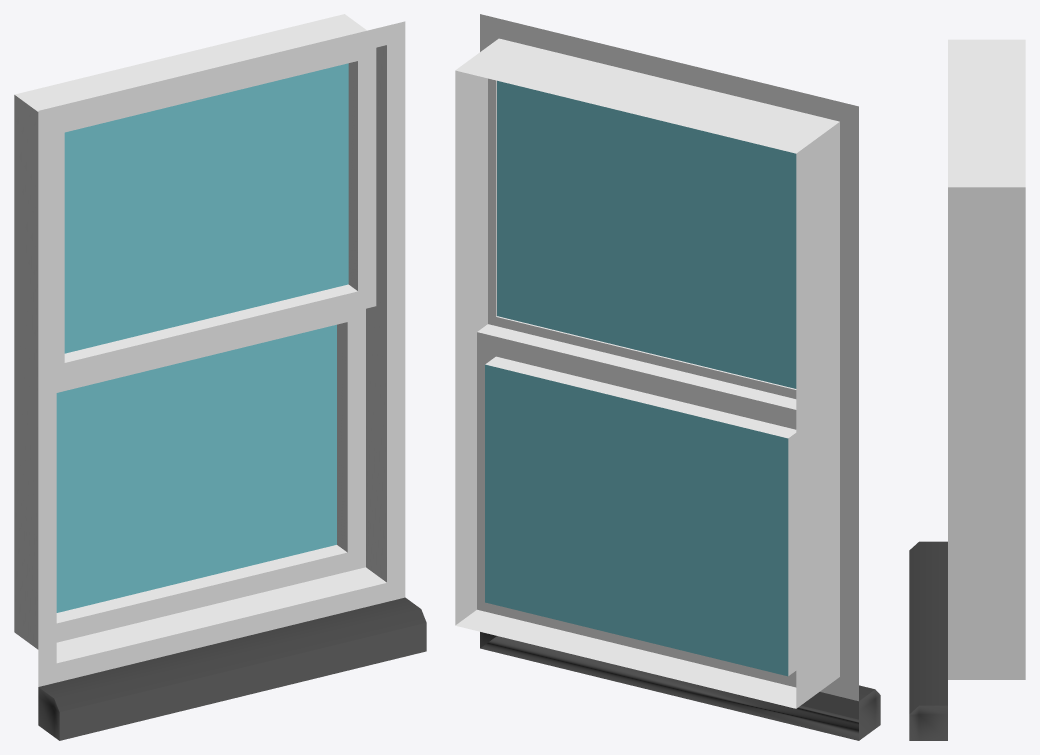
File: Window01OPEN.fbx
3 renders of one model, left to right at view 1: azimuth 30°, elevation 25°; view 2: azimuth 150°, elevation 25°; view 3: azimuth 270°, elevation 25°, orthographic. The views are drawn at different scales.
Parts seen in each view (by area): view 1: Window01, Plane.001, Window01.001; view 2: Window01, Plane.001, Window01.001; view 3: Window01, Window01.001.
Boxes of the visible parts, left/top/right/bottom form: Window01: left=14, top=14, right=405, bottom=686; Plane.001: left=56, top=309, right=365, bottom=642; Window01.001: left=38, top=597, right=426, bottom=740; Window01: left=455, top=14, right=858, bottom=708; Plane.001: left=477, top=332, right=796, bottom=687; Window01.001: left=480, top=632, right=880, bottom=740; Window01: left=948, top=39, right=1025, bottom=679; Window01.001: left=909, top=541, right=947, bottom=740.
Bounding box in the file's own units: 200 × 320 × 60.
